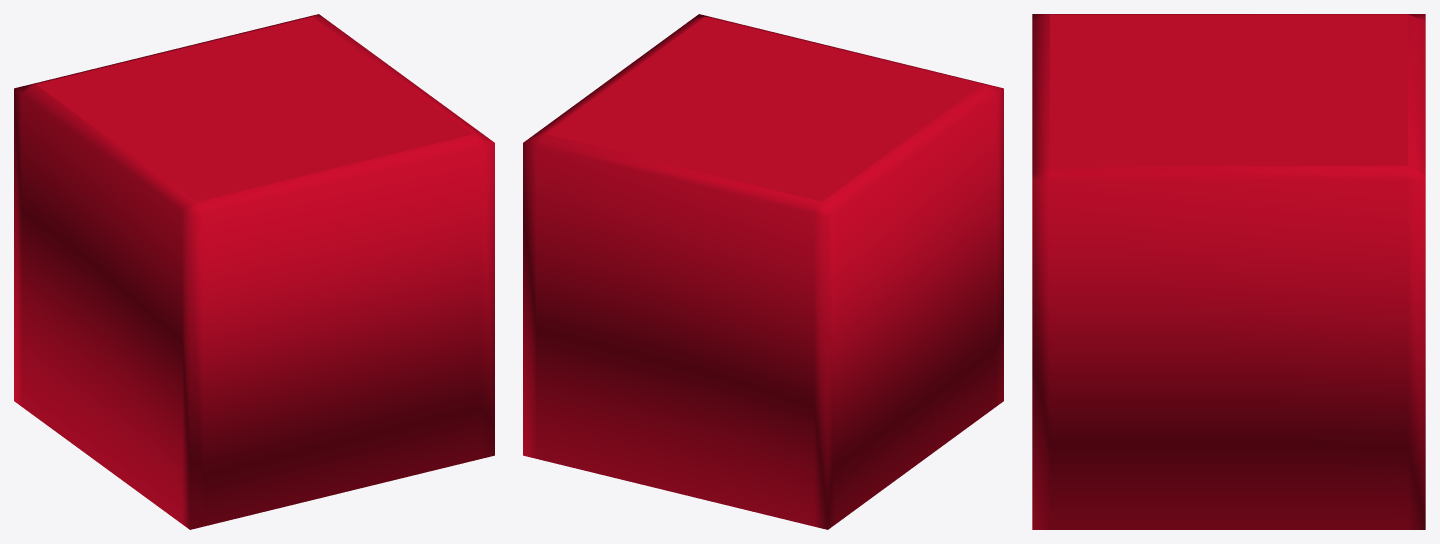
The model's file is Tile.obj.
3 renders of one model, left to right at view 1: azimuth 30°, elevation 25°; view 2: azimuth 150°, elevation 25°; view 3: azimuth 270°, elevation 25°, orthographic. The views are drawn at different scales.
Visible parts, largest first — view 1: Cube; view 2: Cube; view 3: Cube.
Boxes of the visible parts, left/top/right/bottom form: Cube: left=14, top=14, right=494, bottom=529; Cube: left=523, top=14, right=1003, bottom=529; Cube: left=1032, top=14, right=1425, bottom=529.
Bounding box in the file's own units: 1 × 1 × 1.
